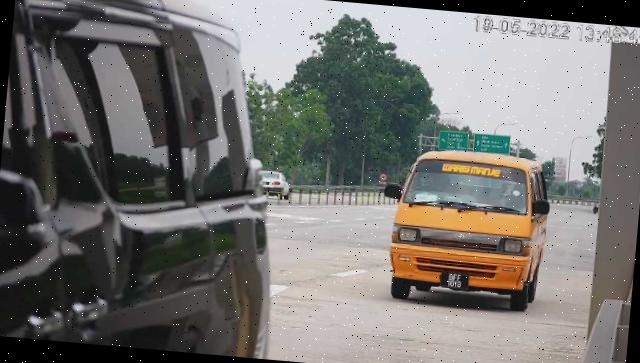License_Plate: (439, 270, 472, 294)
van: (387, 146, 553, 314)
